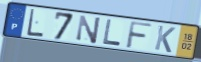7: (53, 10, 75, 41)
F: (124, 20, 154, 50)
K: (153, 24, 177, 54)
L: (101, 18, 122, 47), (26, 8, 45, 39)
N: (75, 14, 102, 46)
